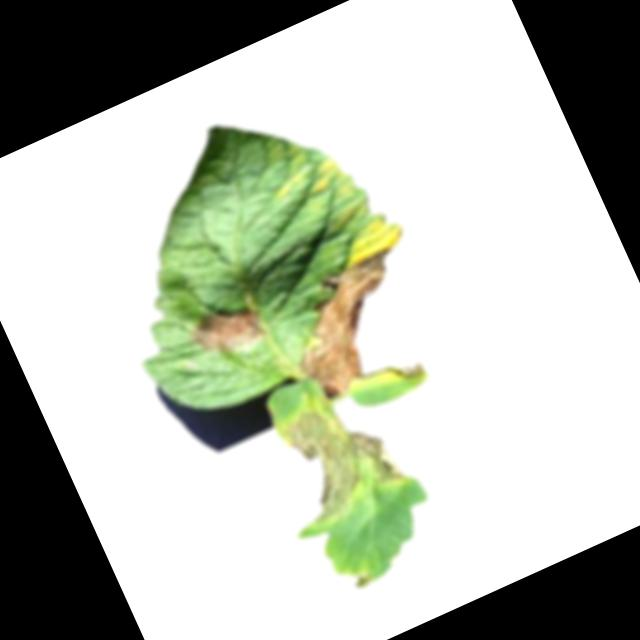Late_blight: (268, 241, 433, 406), (266, 379, 413, 533), (187, 296, 270, 367), (379, 351, 426, 390), (344, 561, 377, 592)
